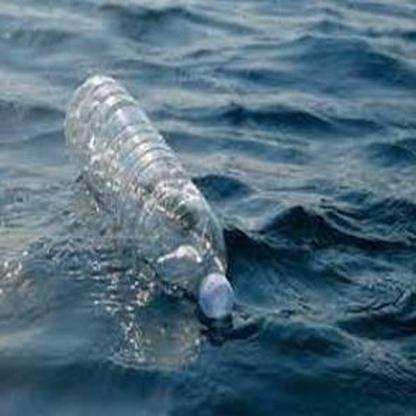plastic bottle: (62, 75, 235, 319)
